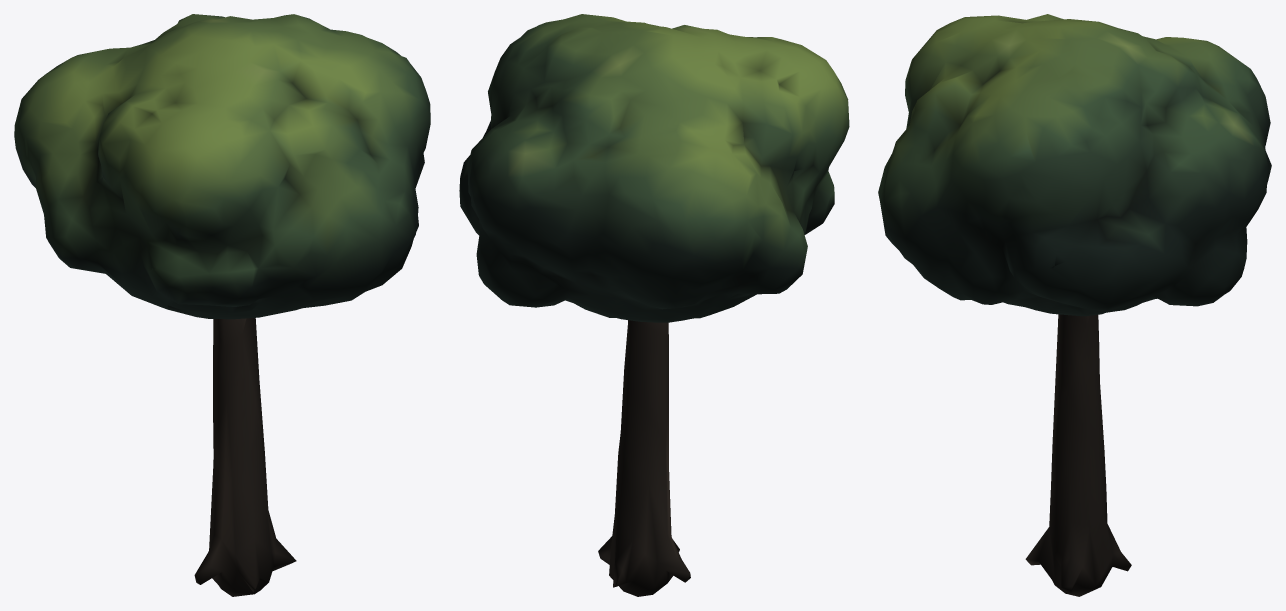
File: dialwood_b.glb
3 renders of one model, left to right at view 1: azimuth 30°, elevation 25°; view 2: azimuth 150°, elevation 25°; view 3: azimuth 270°, elevation 25°, orthographic.
Parts seen in each view (by area): view 1: dialwood_b; view 2: dialwood_b; view 3: dialwood_b.
Part boxes in pixels (left/top/right/bottom): dialwood_b: left=14, top=14, right=430, bottom=596; dialwood_b: left=459, top=14, right=849, bottom=596; dialwood_b: left=878, top=14, right=1271, bottom=596.
Bounding box in the file's own units: 3.36 × 5.33 × 3.41.
